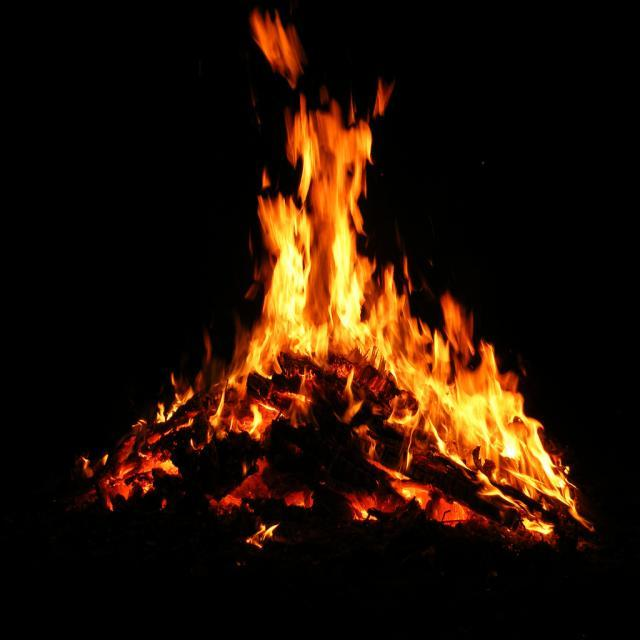Fire: (264, 196, 378, 357), (408, 325, 530, 468)
